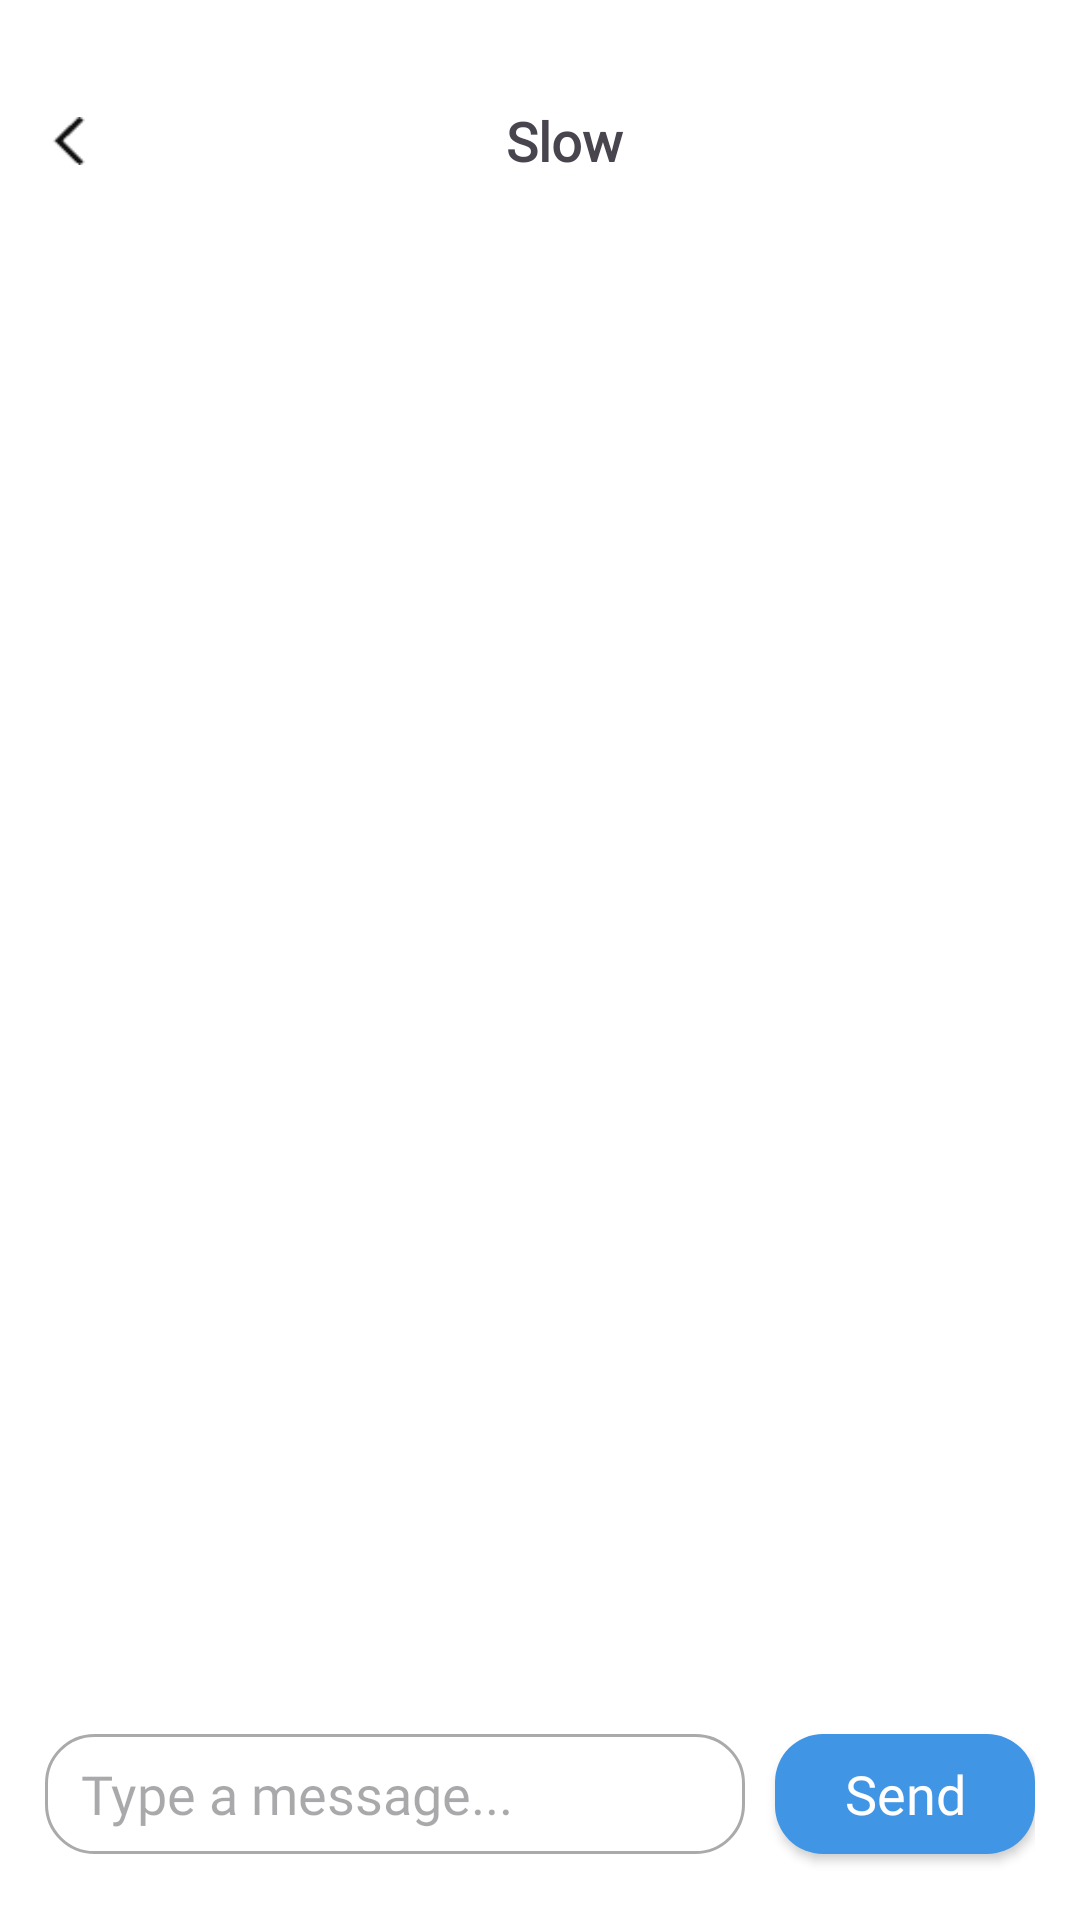

Icons on this 1080*1920 Android screen, each with the point to tap as (x,y):
back: (69,141)
